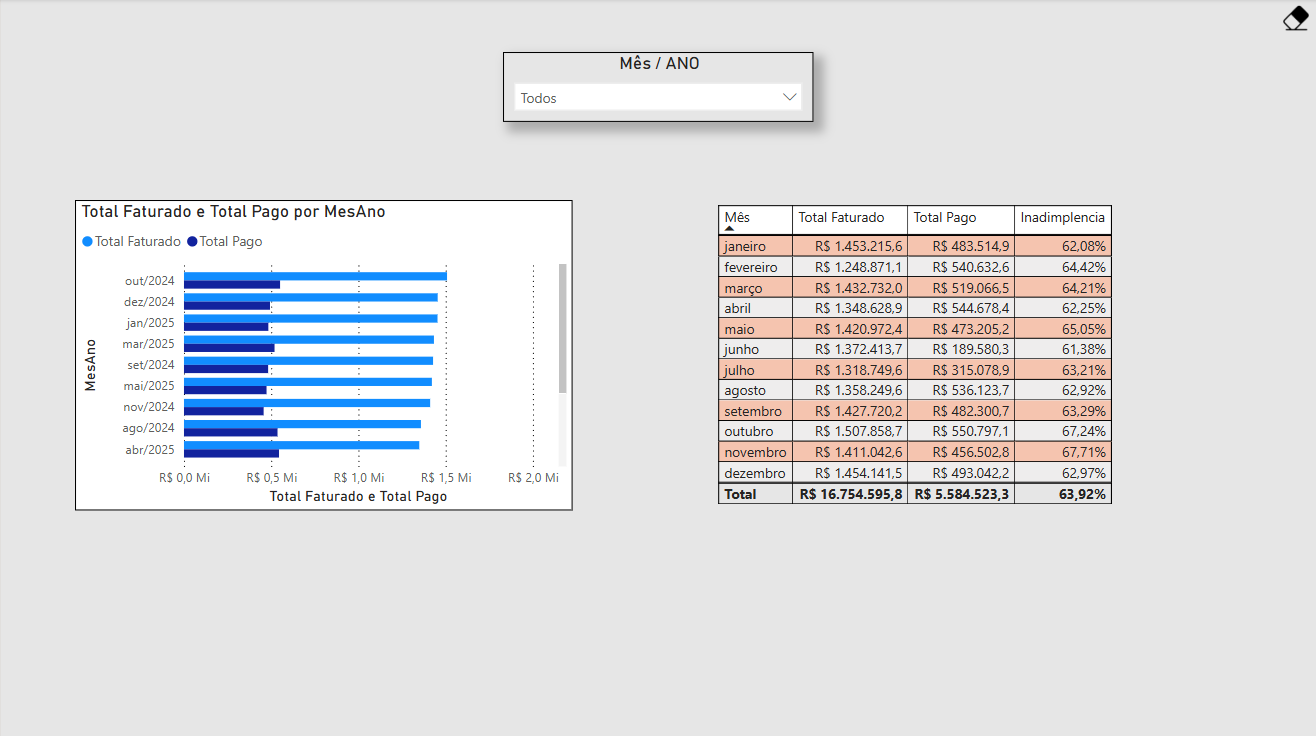

The page's visual inventory and layout, read from the dashboard file:
{"tool":"powerbi","page":{"name":"Resumo Mensal","canvas":[1280,720],"ordinal":2},"visuals":[{"type":"clusteredBarChart","fields":{"Category":["Calendario.MesAno"],"Y":["Calendario.Total Faturado","Calendario.Total Pago"]},"box":[72,195.5,484.4,302.5],"z":0},{"type":"slicer","title":"Mês / ANO","fields":{"Values":["Calendario.MesAno"]},"box":[488.6,51.4,302.4,68.3],"z":1},{"type":"tableEx","fields":{"Values":["Calendario.Date.Variation.Hierarquia de datas.Mês","Calendario.Total Faturado","Calendario.Total Pago","Calendario.Inadimplencia"]},"box":[691.6,195.5,411.4,302.5],"z":2},{"type":"image","box":[1240.1,0,39.9,37.2],"z":3}]}

Visuals, with their boxes in screenshot pixels (x1, y1, x2, y2), scaled from the page's 1280x720 canvas onto the 1316x736 screenshot:
clusteredBarChart - Calendario.MesAno x Calendario.Total Faturado: pyautogui.locateOnScreen(74, 200, 572, 509)
"Mês / ANO" slicer: pyautogui.locateOnScreen(502, 53, 813, 122)
tableEx - Calendario.Date.Variation.Hierarquia de datas.Mês x Calendario.Total Faturado: pyautogui.locateOnScreen(711, 200, 1134, 509)
image: pyautogui.locateOnScreen(1275, 0, 1315, 38)
